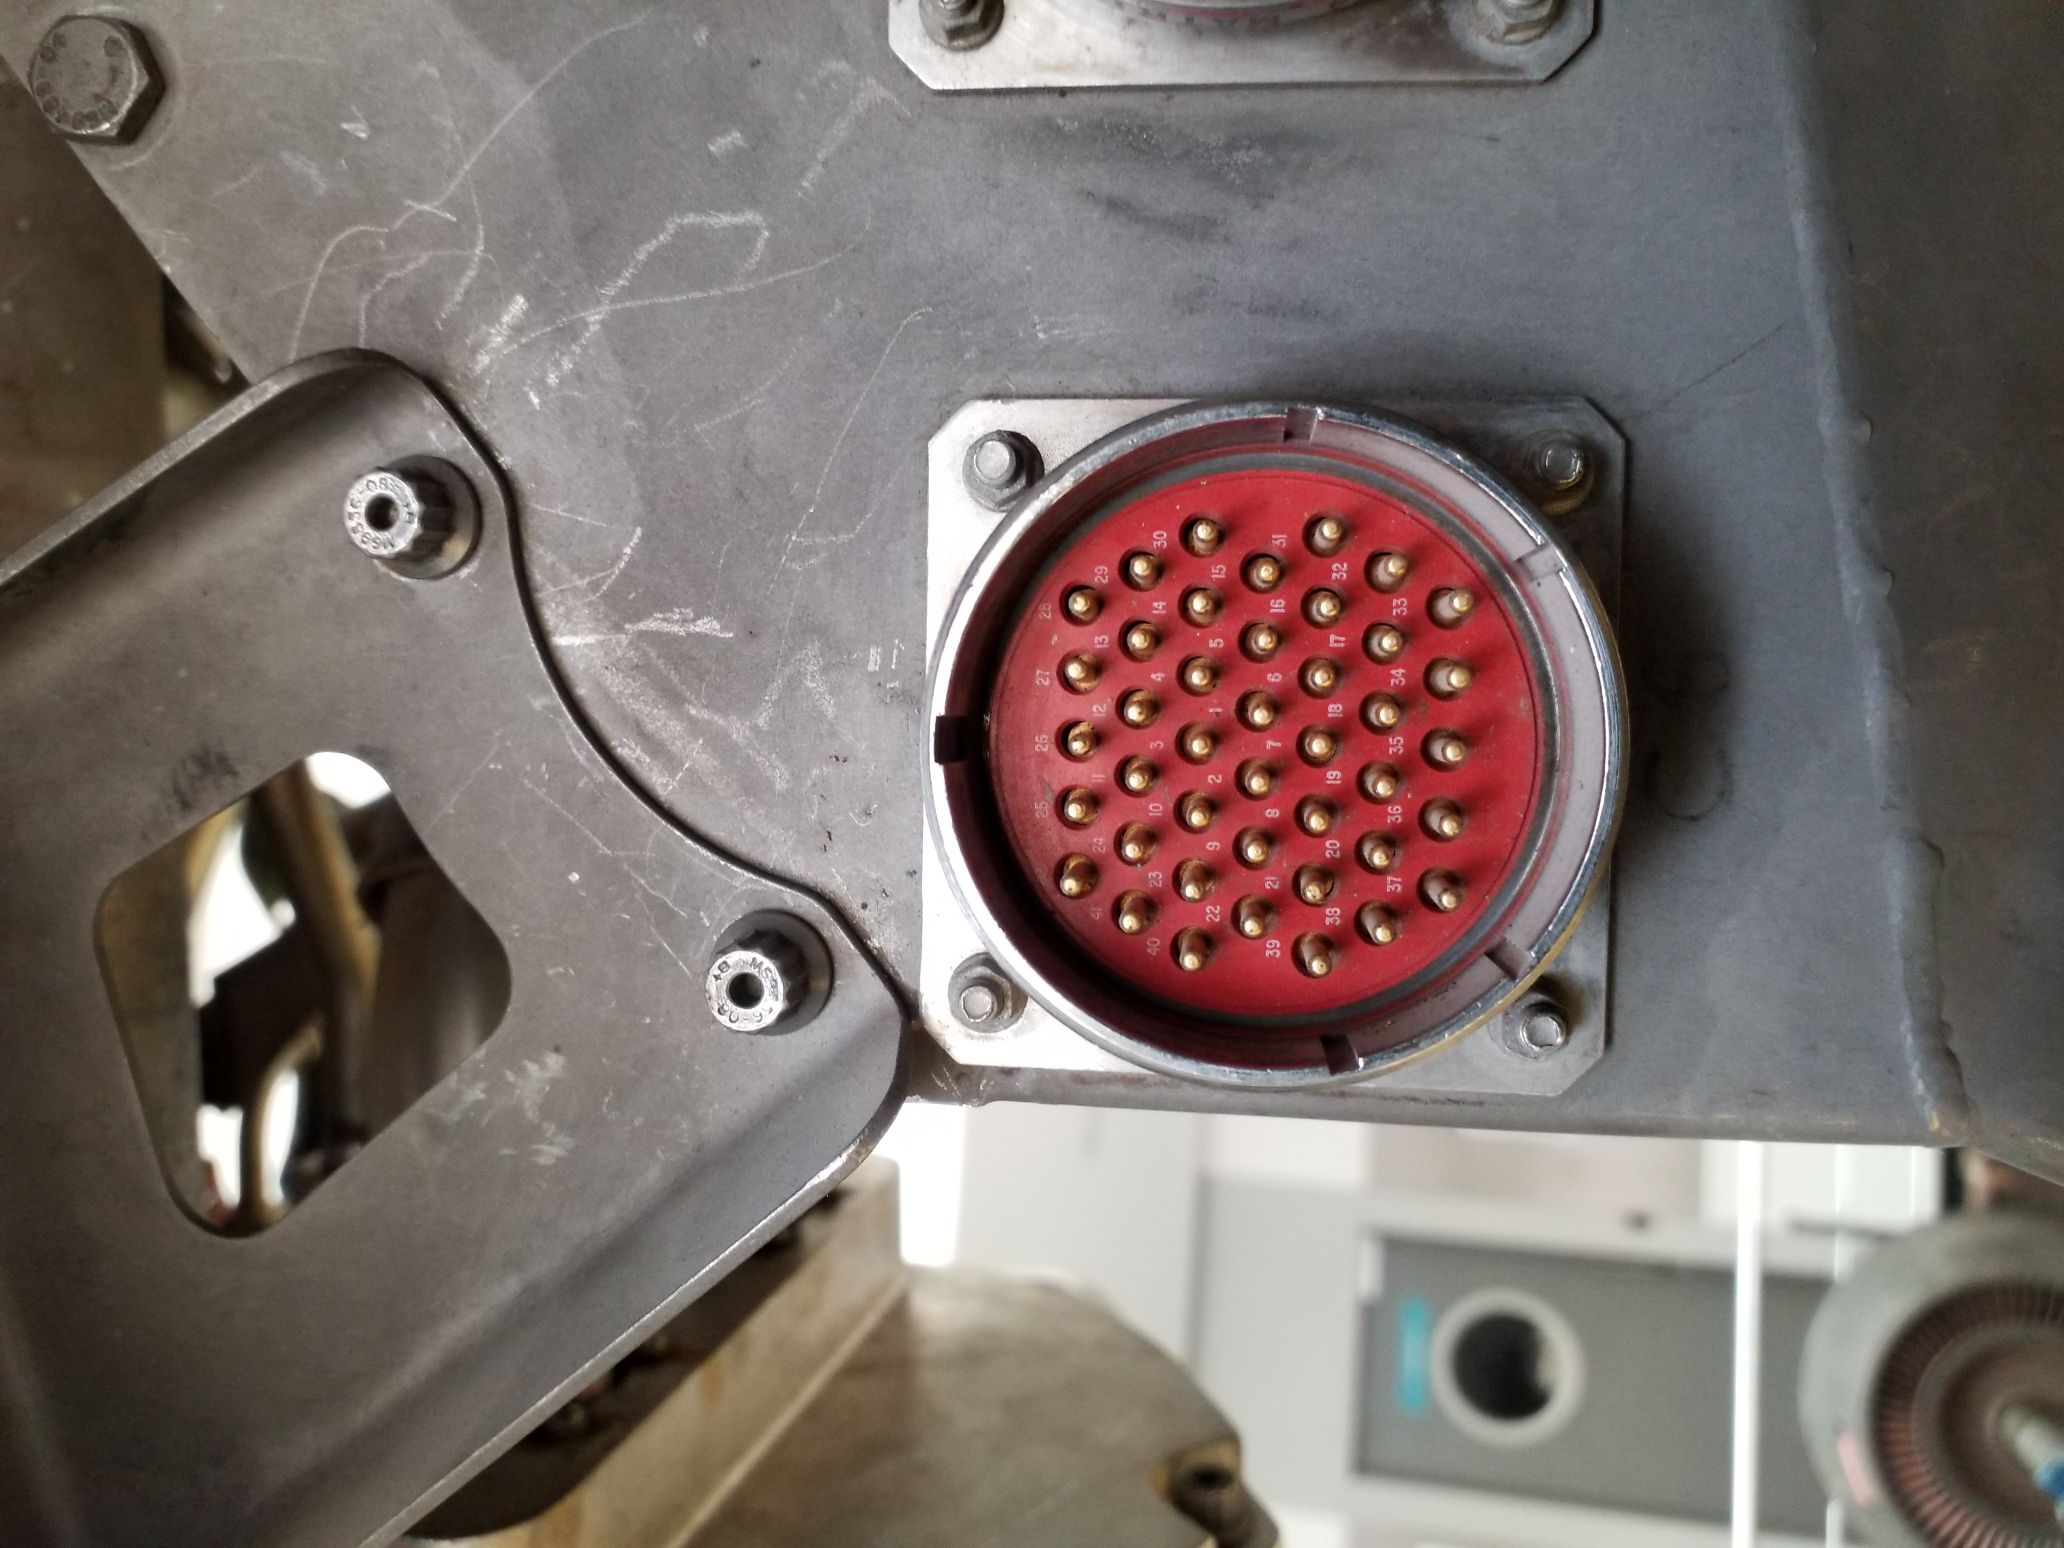outlet: (918, 385, 1615, 1093)
